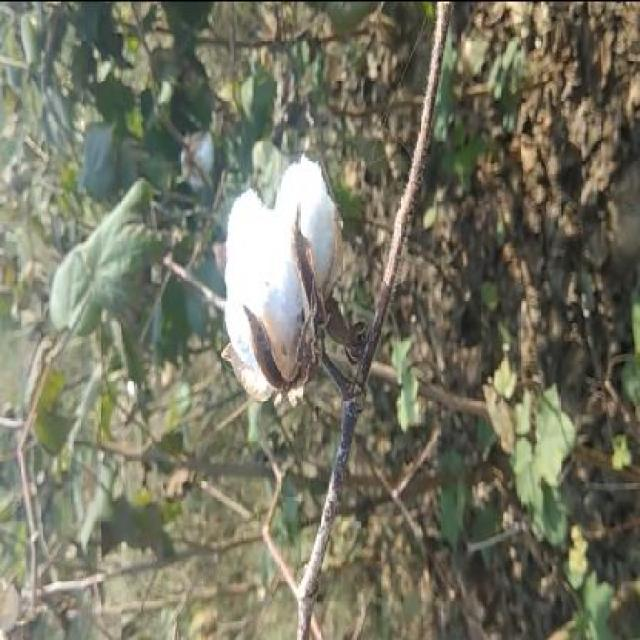cotton_ready: (196, 144, 421, 450)
